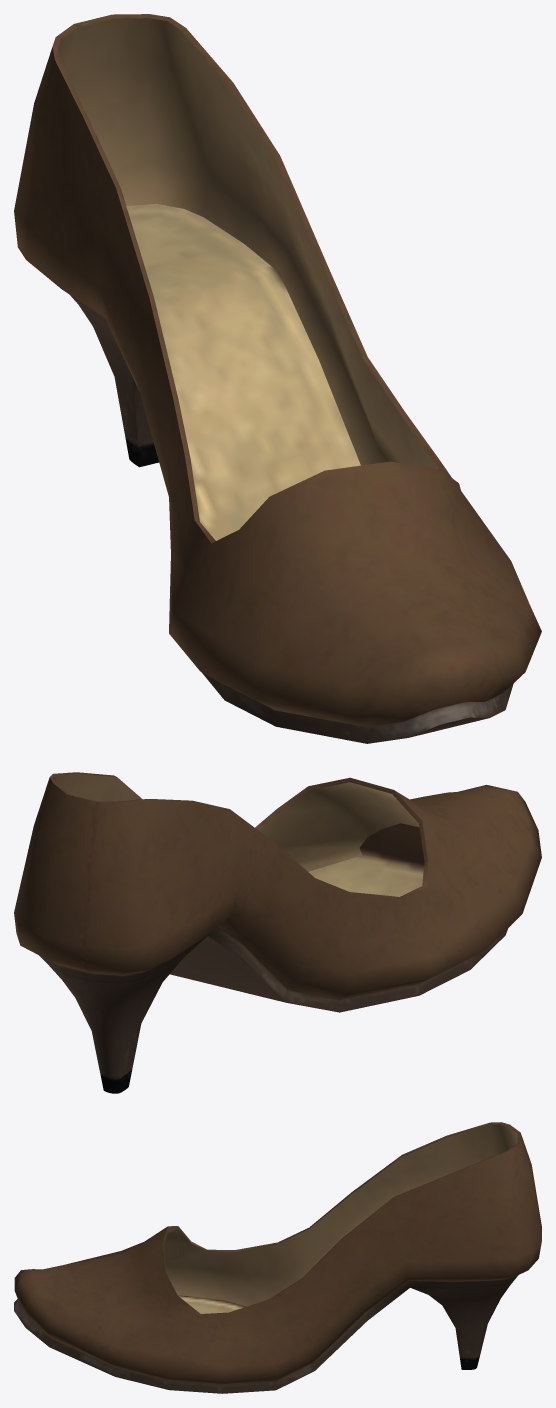
Rendered from pumpsHeels.FBX.
3 renders of one model, top to bottom at view 1: azimuth 30°, elevation 25°; view 2: azimuth 150°, elevation 25°; view 3: azimuth 270°, elevation 25°, orthographic. The views are drawn at different scales.
Parts seen in each view (by area): view 1: SM_PumpsHeels; view 2: SM_PumpsHeels; view 3: SM_PumpsHeels.
Boxes of the visible parts, x1,y1,x2,y2 form: SM_PumpsHeels: (14, 14, 541, 743); SM_PumpsHeels: (14, 772, 541, 1093); SM_PumpsHeels: (14, 1122, 541, 1393).
Bounding box in the file's own units: 10.03 × 11.84 × 24.81.
1 material, 1 textured.
